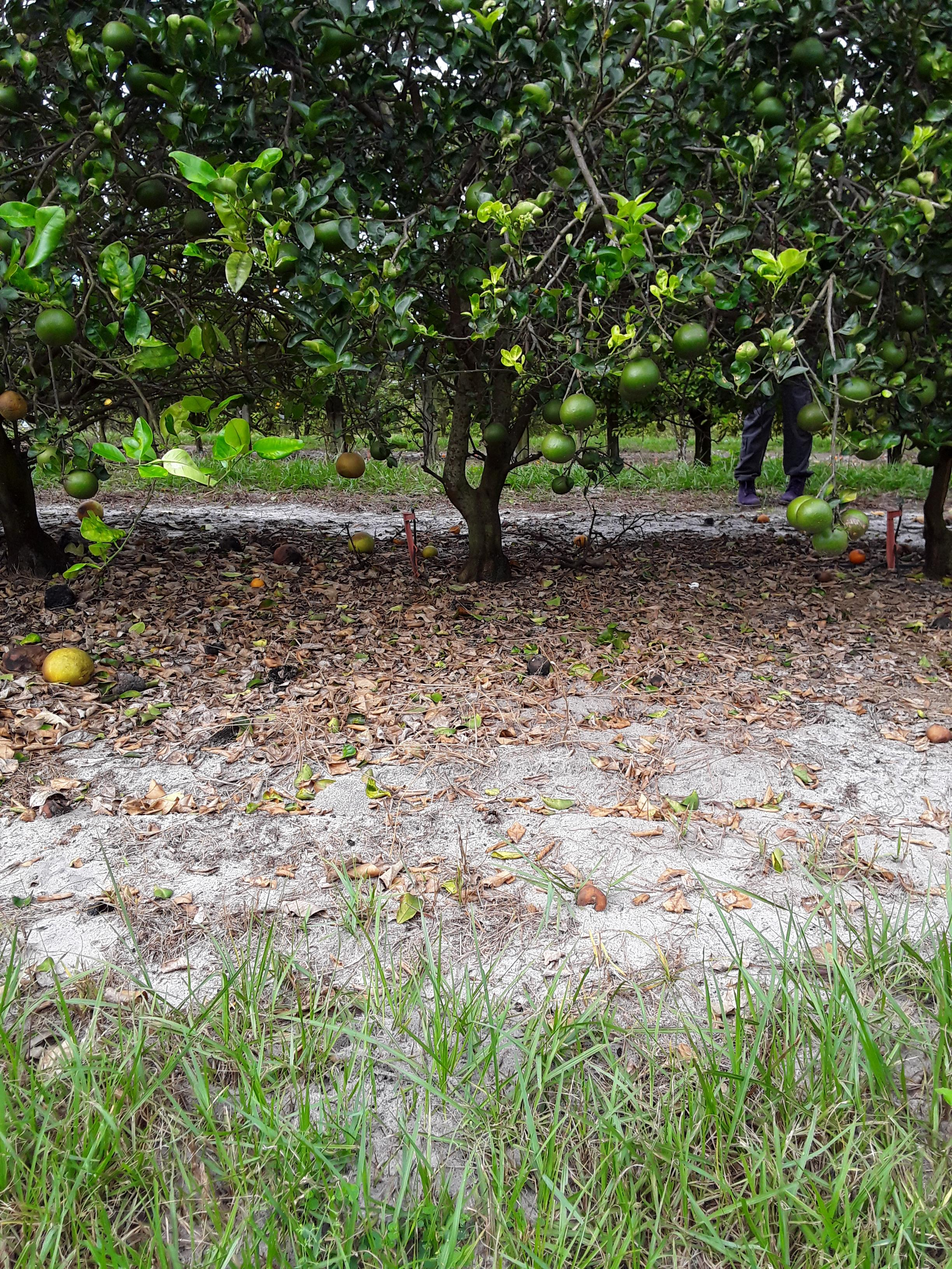fruit_on_ground: (34, 305, 79, 349), (842, 266, 885, 309), (374, 312, 418, 352), (98, 19, 138, 61), (59, 465, 104, 501), (618, 357, 662, 393), (122, 61, 162, 100), (796, 494, 834, 535), (558, 392, 597, 431), (311, 211, 350, 250), (670, 320, 709, 359), (787, 35, 829, 71), (455, 263, 493, 302), (229, 16, 268, 54), (812, 521, 849, 558), (614, 367, 651, 404), (834, 372, 872, 406), (0, 213, 33, 252), (852, 429, 885, 467), (133, 178, 172, 210), (783, 493, 818, 528), (540, 432, 576, 466), (0, 80, 28, 123), (751, 97, 787, 130), (180, 207, 216, 239), (835, 507, 872, 538), (0, 389, 32, 424), (918, 44, 944, 86), (908, 377, 939, 407), (798, 401, 828, 432), (334, 450, 366, 479), (877, 338, 906, 370), (465, 179, 493, 212), (895, 303, 928, 330), (539, 398, 567, 427), (750, 77, 781, 103), (369, 199, 399, 225), (519, 140, 544, 168), (552, 140, 581, 162), (481, 422, 508, 445), (919, 445, 943, 468), (367, 440, 390, 462), (582, 214, 610, 232), (551, 474, 573, 495), (580, 449, 602, 468)
fruit_on_tree: (39, 645, 98, 690), (43, 578, 78, 616), (3, 643, 45, 674), (573, 883, 611, 917), (110, 667, 149, 694), (37, 793, 79, 818), (523, 648, 555, 679), (74, 496, 106, 525), (345, 531, 378, 556), (273, 542, 303, 568), (925, 718, 952, 745), (419, 545, 442, 559), (572, 534, 592, 549), (849, 549, 867, 565), (248, 577, 268, 590), (816, 570, 833, 584), (755, 512, 773, 524)
